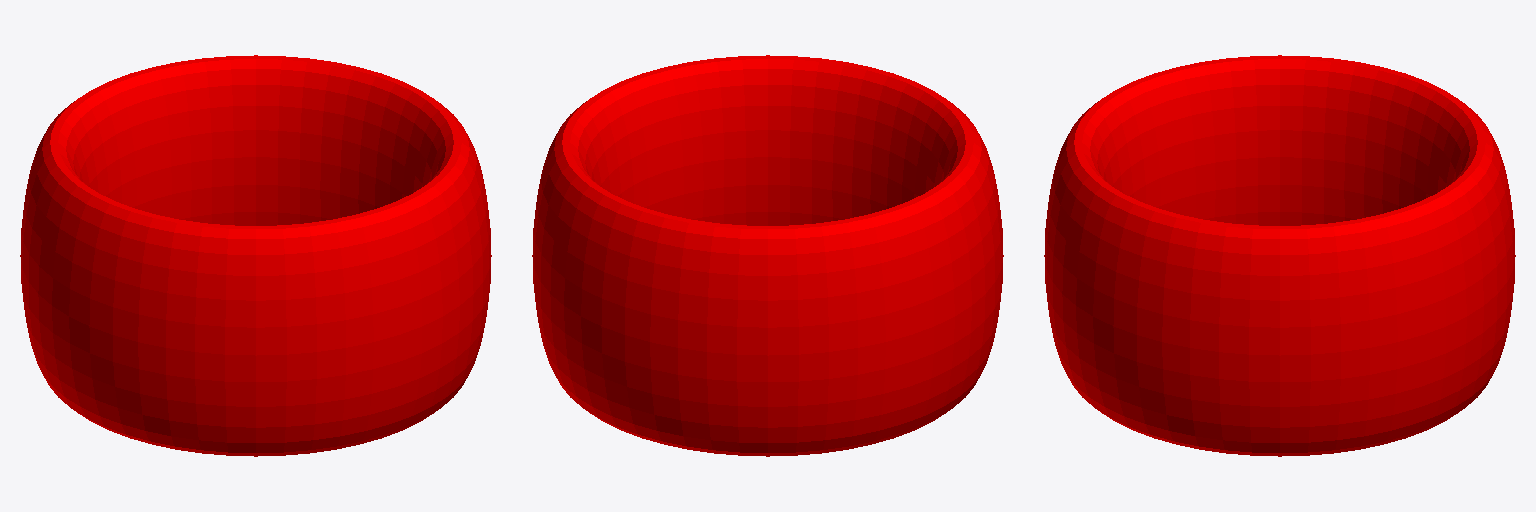
robot.urdf — ring:
<?xml version="1.0" ?>
<robot name="ring">
  <link name="baseLink">

    <inertial>
      <origin rpy="0 0 0" xyz="0 0 0"/>
       <mass value=".05"/>
       <inertia ixx="0.00002663125" ixy="0" ixz="0" iyy="0.00002663125" iyz="0" izz="0.0000476375"/>
    </inertial>

    <visual>
      <origin rpy="0 0 0" xyz="0 0 0"/>
      <geometry>
				<mesh filename="ring.obj" scale="0.004 0.004 0.015"/>
      </geometry>
       <material name="red">
        <color rgba="1 0 0 1"/>
      </material>
    </visual>
    <collision>
      <origin rpy="0 0 0" xyz="0 0 0"/>
      <geometry>
	 	<mesh filename="ring.obj" scale="0.004 0.004 0.015"/>
      </geometry>
      <surface>
        <friction>
          <ode>
            <mu>1</mu>
            <mu2>1</mu2>
          </ode>
        </friction>
        <contact>
          <ode>
            <min_depth>0.01</min_depth>
          </ode>
        </contact>
      </surface>
    </collision>
  </link>
</robot>

--- Render facts (derived) ---
The picture shows the robot from 3 angles, left to right: view 1: azimuth 30°, elevation 25°; view 2: azimuth 150°, elevation 25°; view 3: azimuth 270°, elevation 25°; orthographic projection.
Robot: ring — 1 links, 0 joints (none); root link baseLink; default pose: every joint at zero.
Links seen in each view (by area): view 1: baseLink; view 2: baseLink; view 3: baseLink.
Boxes of the visible links, box(x1,y1,x2,y2) form: baseLink: box(20, 55, 491, 456); baseLink: box(532, 55, 1003, 456); baseLink: box(1044, 55, 1515, 456).
Size in the robot's own frame: 0.056 by 0.056 by 0.0298 metres.
Meshes: 1 distinct files referenced, 1 mesh visuals loaded (1 OBJ).